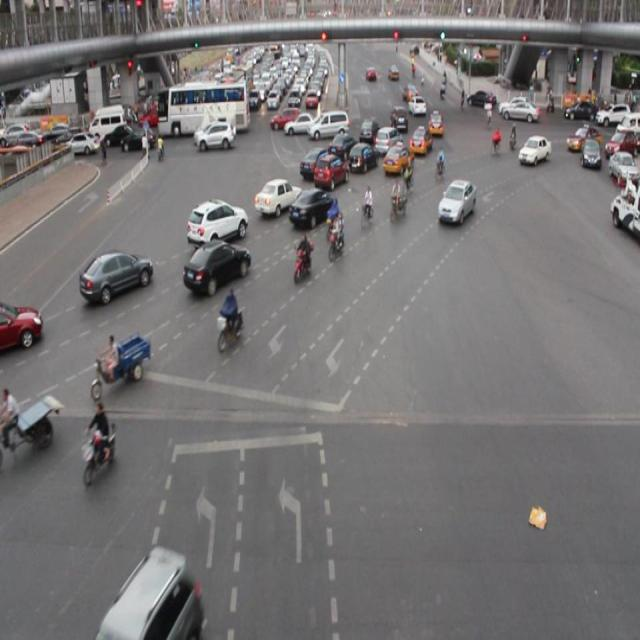car: (110, 556, 204, 640), (80, 249, 154, 301), (182, 239, 250, 293), (187, 197, 249, 247), (1, 298, 43, 349), (436, 177, 476, 224), (252, 178, 300, 215), (289, 187, 332, 227), (312, 154, 348, 189), (299, 145, 331, 180), (517, 134, 549, 166), (382, 142, 412, 176), (347, 142, 378, 172), (373, 125, 403, 156), (327, 131, 356, 161), (408, 125, 432, 156)
